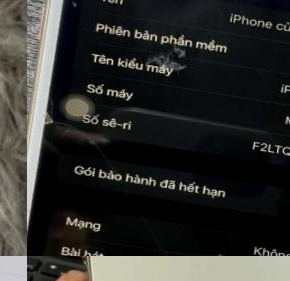physical_damage: (51, 119, 119, 170), (102, 170, 146, 211), (128, 210, 168, 253), (163, 243, 226, 256), (41, 96, 59, 128)
scratch: (143, 40, 190, 77), (67, 0, 79, 8)
